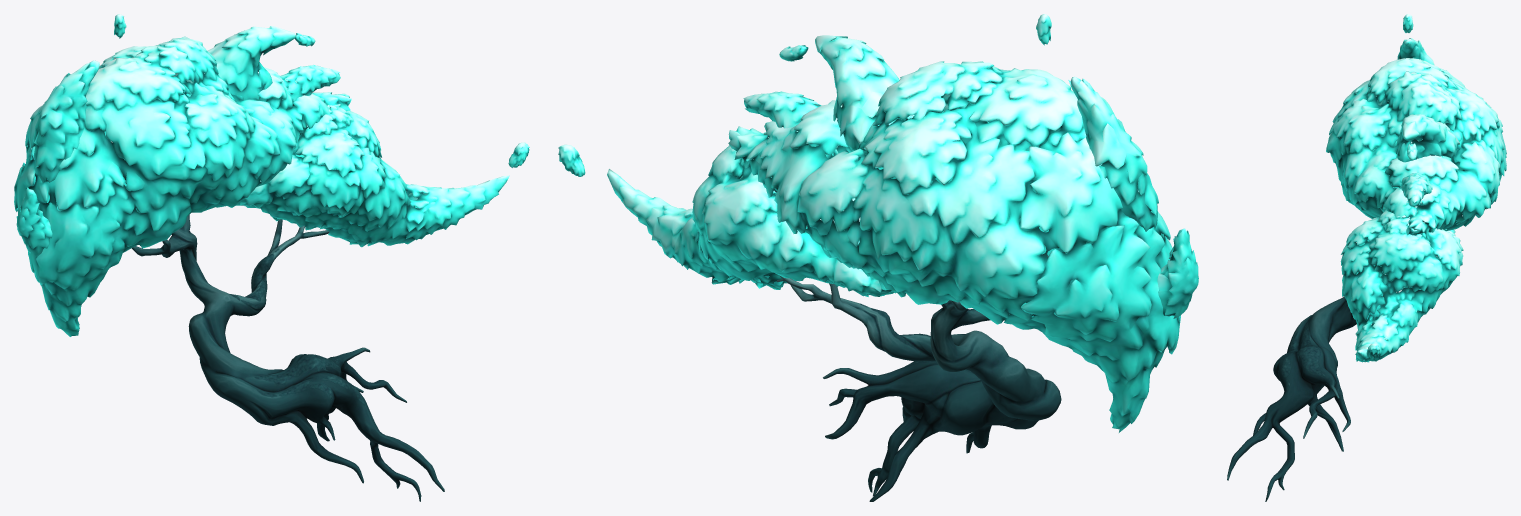
Rendered from sky_tree_01c_soma.glb.
The picture shows the model from 3 angles, left to right: view 1: azimuth 30°, elevation 25°; view 2: azimuth 150°, elevation 25°; view 3: azimuth 270°, elevation 25°; orthographic projection. The views are drawn at different scales.
Visible parts, largest first — view 1: tree_01c; view 2: tree_01c; view 3: tree_01c.
Part boxes in pixels (x1,y1,x2,y2): tree_01c: (14, 14, 529, 501); tree_01c: (558, 14, 1198, 501); tree_01c: (1227, 14, 1506, 501).
Bounding box in the file's own units: 56.23 × 51.61 × 32.75.
2 materials, 2 textured.
